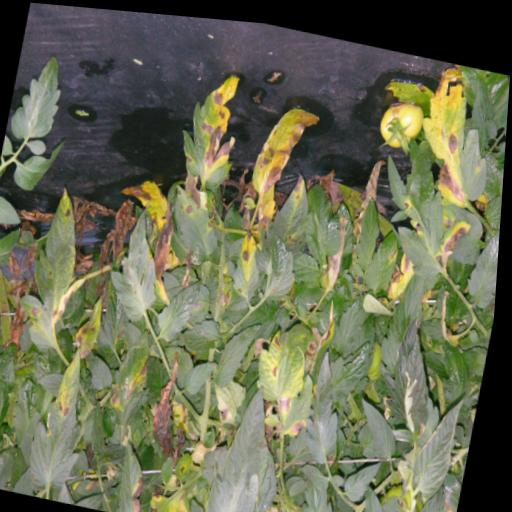Early Blight: (15, 178, 96, 368), (408, 54, 505, 210), (391, 132, 487, 279), (25, 341, 109, 504), (206, 370, 300, 512), (174, 60, 251, 195), (242, 92, 322, 215), (106, 194, 176, 322), (253, 159, 321, 276), (109, 321, 167, 443), (302, 339, 358, 461), (380, 262, 433, 374), (255, 315, 321, 401), (164, 178, 229, 265), (165, 178, 229, 265), (397, 323, 447, 431), (216, 309, 267, 389), (157, 266, 207, 343), (153, 447, 212, 512), (333, 274, 377, 349), (278, 363, 322, 434), (119, 438, 160, 512), (311, 289, 343, 383), (264, 227, 304, 302), (233, 222, 270, 303), (365, 218, 404, 290), (464, 67, 499, 143), (72, 294, 111, 360), (380, 68, 436, 110), (179, 307, 230, 352), (303, 472, 344, 512), (438, 462, 470, 512), (494, 109, 508, 208), (404, 487, 453, 512), (496, 64, 510, 123)
Healthy: (414, 385, 467, 492), (297, 173, 353, 260), (13, 130, 67, 195), (436, 330, 482, 405), (356, 390, 408, 455), (466, 208, 503, 299), (354, 187, 387, 266), (14, 373, 47, 443), (348, 446, 388, 498), (380, 144, 415, 202), (185, 351, 221, 394), (292, 245, 328, 283), (363, 474, 397, 512), (0, 220, 22, 276), (461, 331, 493, 368), (424, 474, 454, 512), (91, 352, 120, 390), (302, 455, 338, 485), (0, 192, 27, 226), (39, 366, 68, 396), (485, 179, 504, 214), (27, 136, 49, 155), (391, 199, 410, 218)
Leaf_Miner: (128, 337, 144, 363), (192, 240, 206, 262)
